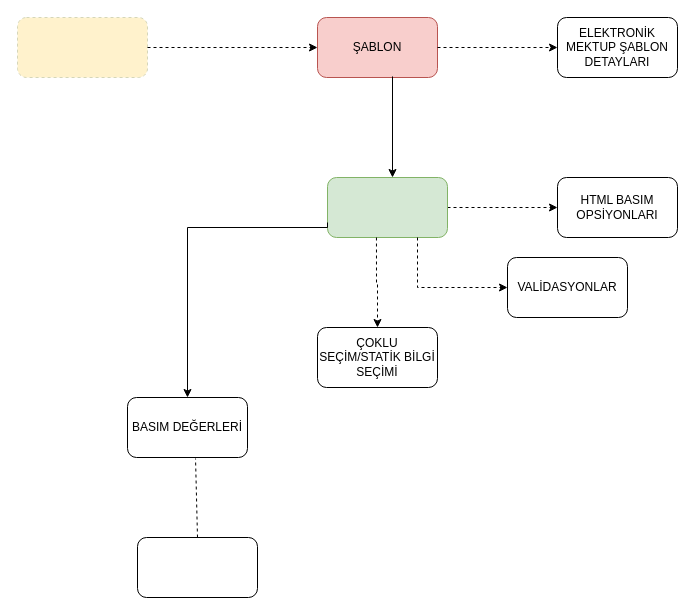
Image size: 695x615. Some labels were removed from this diagram. The shapes that lost their labels are listed below. From the top down, each one's centre as x and y in pixels, then its label:
pixel 82 47: MEKTUP /GARANTİLER
pixel 387 207: BASIM OPSİYONLARI
pixel 197 567: ELEKTRONİK DÖKÜMANLAR
